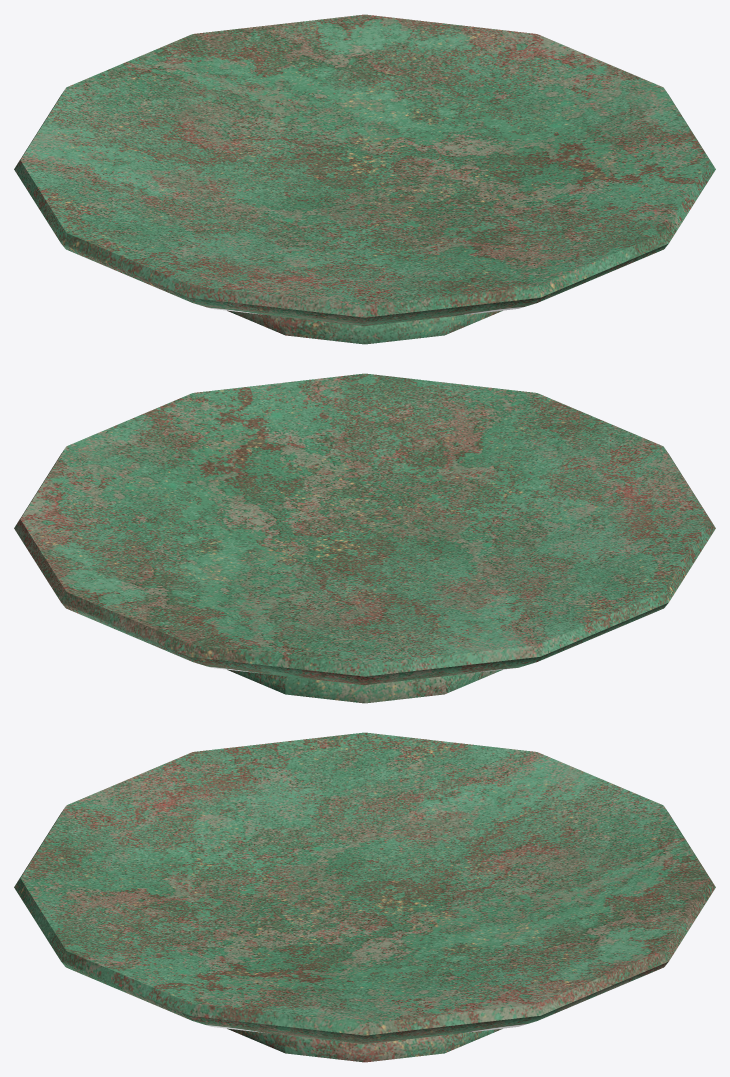
The model's file is hitutuwa.fbx.
The picture shows the model from 3 angles, top to bottom: view 1: azimuth 30°, elevation 25°; view 2: azimuth 150°, elevation 25°; view 3: azimuth 270°, elevation 25°; orthographic projection.
Parts seen in each view (by area): view 1: dish; view 2: dish; view 3: dish.
Part boxes in pixels (<box>): dish: <box>14,14,715,344</box>; dish: <box>14,373,715,703</box>; dish: <box>14,732,715,1062</box>.
Size of the model in its own units: 1.9 by 0.3492 by 1.9.
1 material, 1 textured.
